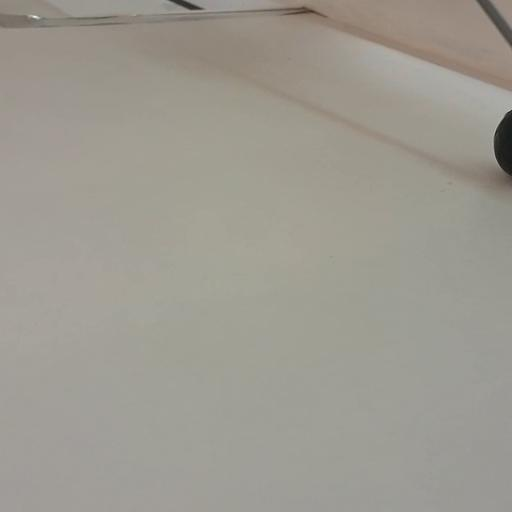dead: (493, 106, 512, 175)
